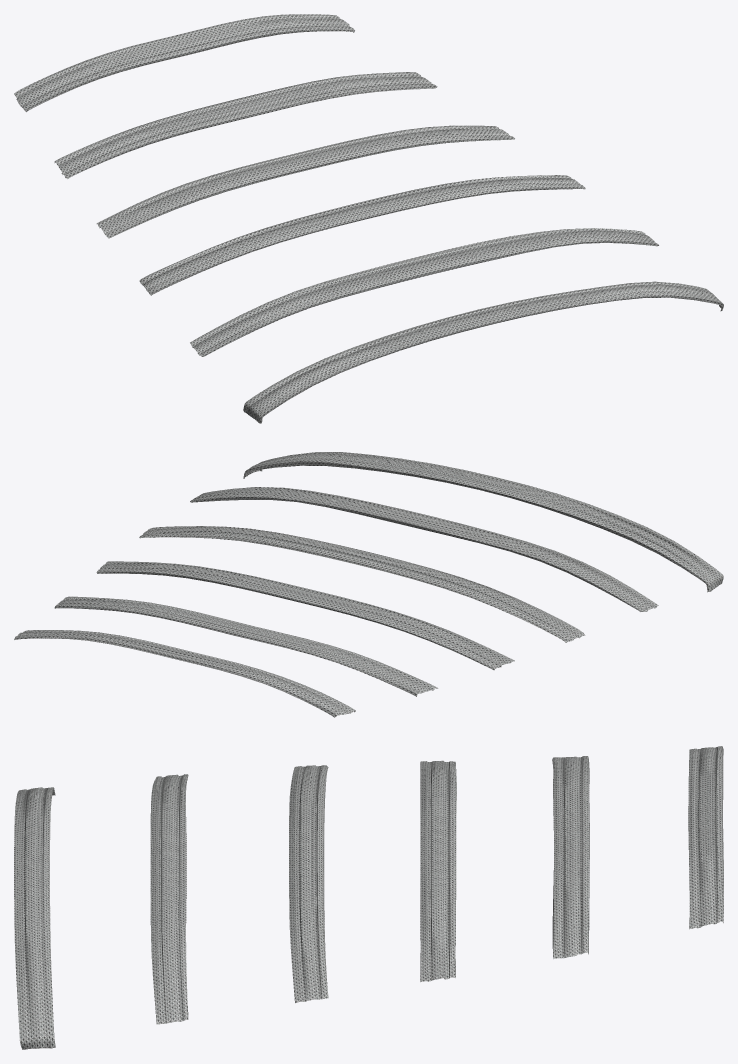
The model's file is 193_Ribs-3f9fff73.glb.
The picture shows the model from 3 angles, top to bottom: view 1: azimuth 30°, elevation 25°; view 2: azimuth 150°, elevation 25°; view 3: azimuth 270°, elevation 25°; orthographic projection. The views are drawn at different scales.
Parts seen in each view (by area): view 1: Ribs; view 2: Ribs; view 3: Ribs.
Part boxes in pixels (x1=…): Ribs: x1=14, y1=14, x2=723, y2=423; Ribs: x1=14, y1=452, x2=723, y2=717; Ribs: x1=14, y1=746, x2=723, y2=1049.
Size of the model in its own units: 0.2242 by 0.0467 by 0.2659.
6 materials, 6 textured.
